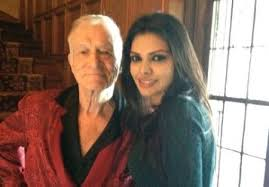indian_female: (130, 10, 188, 94)
